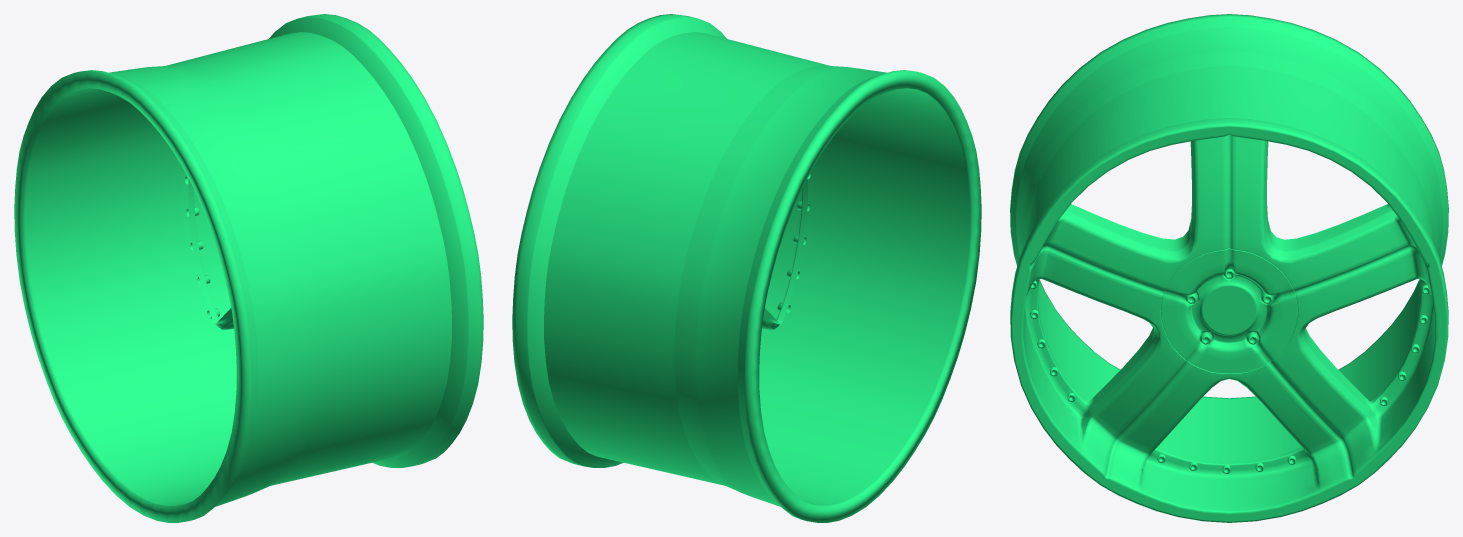
Rendered from tis01.fbx.
3 renders of one model, left to right at view 1: azimuth 30°, elevation 25°; view 2: azimuth 150°, elevation 25°; view 3: azimuth 270°, elevation 25°, orthographic. The views are drawn at different scales.
Visible parts, largest first — view 1: tis01; view 2: tis01; view 3: tis01.
Boxes of the visible parts, x1=… form: tis01: x1=14, y1=14, x2=483, y2=522; tis01: x1=512, y1=14, x2=981, y2=522; tis01: x1=1010, y1=14, x2=1448, y2=522.
Size of the model in its own units: 1475 by 2481 by 2473.
